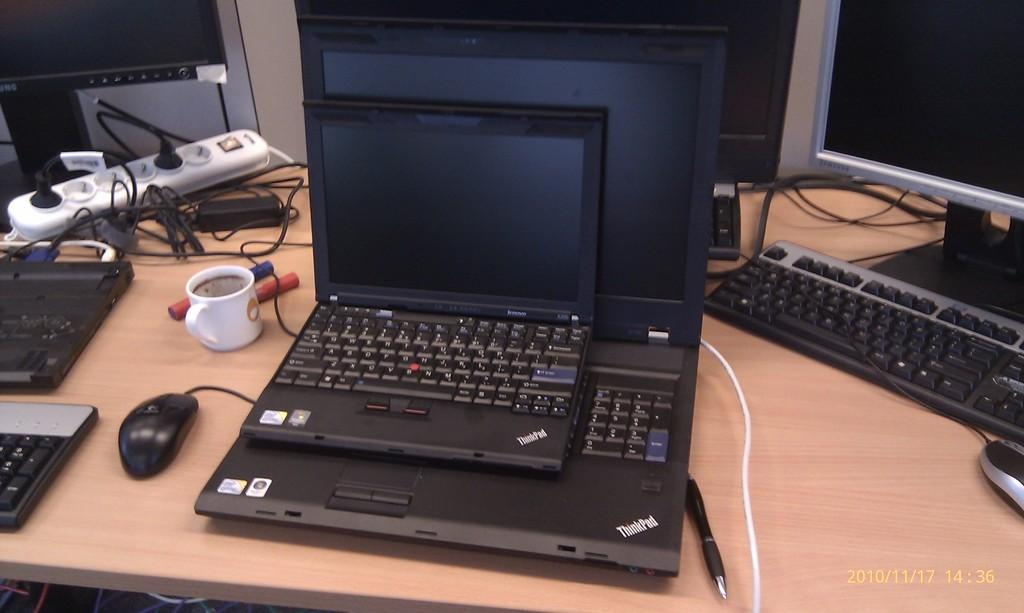Computer-keyboard: (706, 232, 1023, 441), (274, 306, 590, 418), (0, 395, 95, 533), (575, 385, 673, 463), (712, 182, 737, 259)
Laptop: (195, 16, 732, 579), (240, 102, 605, 474)
